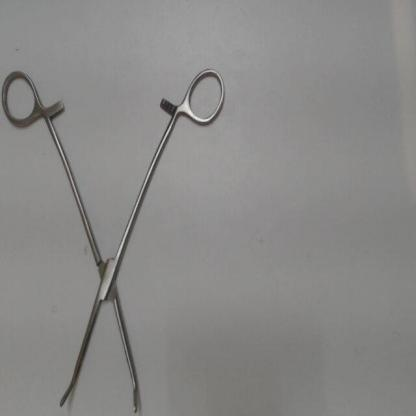Lahey Forceps: (0, 63, 233, 414)
